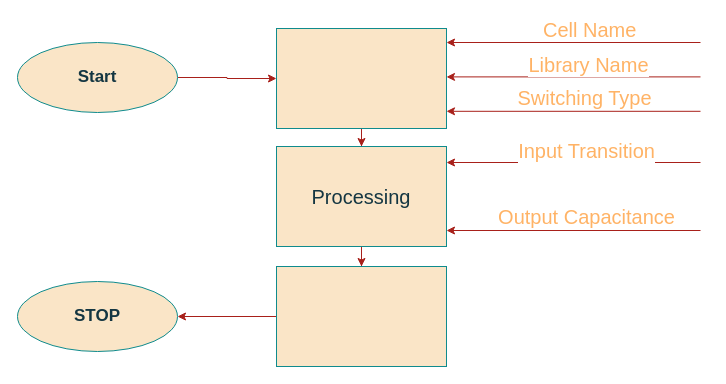
Image size: 726x384. Some labels were removed from this diagram. The shapes that lost their labels are listed below. From the top down, each one's centre as x and y in pixels, then its label:
[361,78]: Parsing
[361,316]: Write Files
